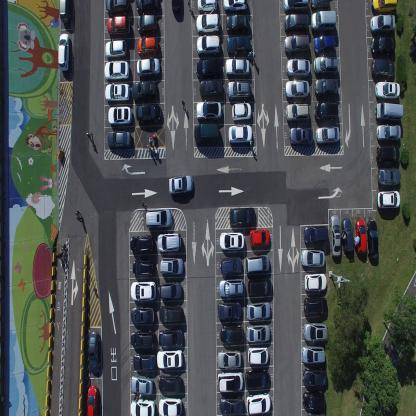car: (310, 8, 336, 34), (193, 121, 219, 146), (195, 11, 220, 35), (369, 13, 395, 36), (131, 78, 157, 101), (145, 207, 172, 229), (283, 33, 310, 55), (103, 60, 130, 82), (375, 102, 404, 122), (168, 173, 193, 196), (302, 322, 328, 344), (130, 279, 156, 301), (370, 35, 396, 57), (226, 79, 252, 101), (217, 371, 244, 392), (156, 349, 183, 370), (195, 100, 222, 121), (57, 32, 71, 72), (246, 392, 270, 415), (314, 99, 338, 122), (196, 33, 220, 56), (245, 253, 270, 275), (219, 230, 244, 252), (217, 348, 242, 370), (314, 77, 339, 99), (283, 12, 308, 34), (285, 101, 310, 123), (106, 15, 131, 37), (302, 224, 328, 245), (244, 369, 270, 390), (229, 206, 255, 227), (88, 331, 100, 376), (302, 389, 325, 412), (313, 33, 336, 56), (303, 296, 327, 318), (329, 214, 341, 258), (371, 58, 395, 80), (225, 12, 249, 34), (247, 276, 272, 297), (302, 368, 327, 389), (246, 300, 271, 321), (158, 327, 183, 348), (219, 324, 244, 345), (313, 55, 338, 76), (284, 79, 309, 100), (228, 124, 253, 145), (196, 56, 221, 77), (105, 82, 130, 103), (107, 105, 132, 126), (107, 130, 132, 151), (156, 232, 182, 252), (218, 277, 244, 297), (225, 58, 251, 78), (136, 102, 162, 122), (377, 166, 400, 188), (160, 254, 184, 275), (289, 126, 313, 147), (199, 78, 223, 99), (217, 300, 242, 320), (158, 280, 183, 300), (130, 305, 155, 325), (130, 329, 155, 349), (376, 190, 401, 210), (375, 80, 400, 100), (315, 124, 340, 144), (285, 58, 310, 78), (136, 56, 161, 76), (220, 254, 243, 275), (104, 38, 127, 59), (130, 234, 154, 254), (158, 374, 182, 394), (219, 395, 243, 415), (376, 145, 400, 165), (246, 324, 271, 343), (300, 248, 325, 267), (136, 35, 158, 56), (137, 12, 158, 34), (132, 257, 155, 277), (247, 346, 270, 366), (130, 375, 153, 395), (301, 346, 325, 365), (226, 35, 250, 54), (367, 218, 378, 259), (130, 398, 155, 416), (376, 124, 401, 142), (106, 0, 131, 18), (355, 217, 367, 254), (159, 305, 182, 324), (133, 352, 156, 371), (158, 397, 182, 415), (342, 217, 354, 253), (231, 101, 252, 121), (304, 273, 326, 292), (86, 384, 99, 416), (249, 228, 270, 247), (282, 0, 310, 14), (370, 0, 398, 13), (135, 0, 159, 14), (222, 0, 247, 12), (59, 0, 71, 25), (196, 0, 217, 11), (310, 0, 330, 8), (170, 0, 182, 12)
